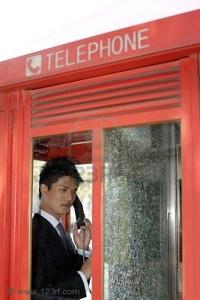person: (30, 154, 94, 300)
